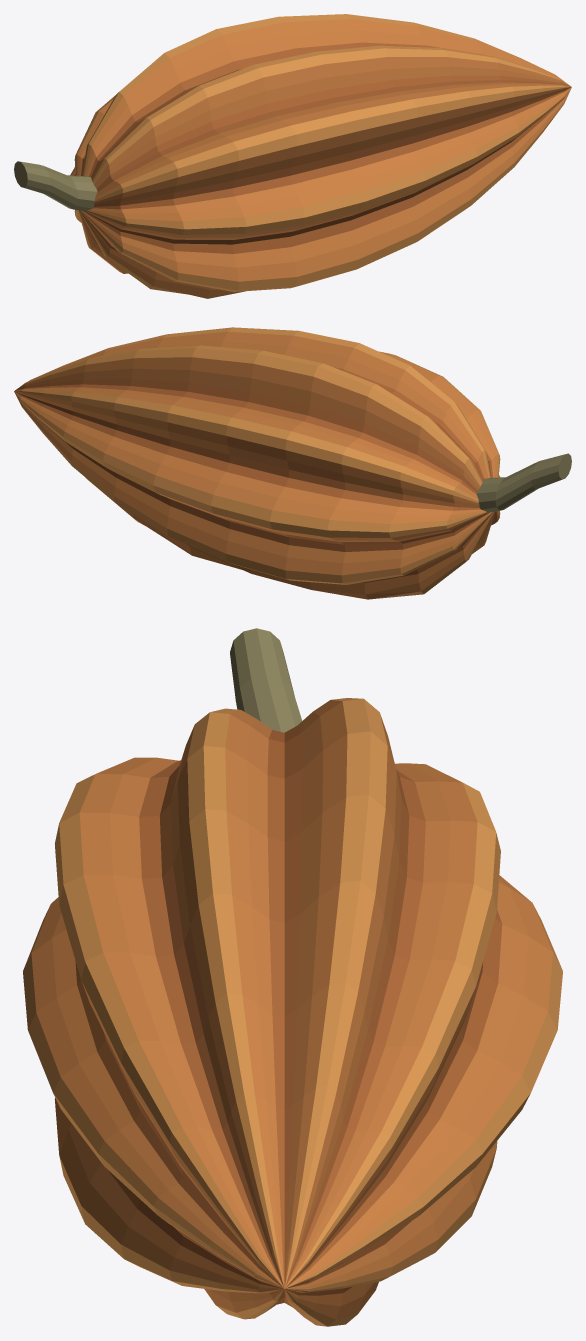
3 renders of one model, top to bottom at view 1: azimuth 30°, elevation 25°; view 2: azimuth 150°, elevation 25°; view 3: azimuth 270°, elevation 25°, orthographic. The views are drawn at different scales.
Visible parts, largest first — view 1: WholeClosedAxiallyRibbedCacaoBody, WholeShortBentWoodyStalk; view 2: WholeClosedAxiallyRibbedCacaoBody, WholeShortBentWoodyStalk; view 3: WholeClosedAxiallyRibbedCacaoBody, WholeShortBentWoodyStalk.
Part boxes in pixels (x1,y1,x2,y2): WholeClosedAxiallyRibbedCacaoBody: (70, 14, 571, 298); WholeShortBentWoodyStalk: (14, 161, 97, 211); WholeClosedAxiallyRibbedCacaoBody: (14, 327, 500, 599); WholeShortBentWoodyStalk: (476, 453, 571, 512); WholeClosedAxiallyRibbedCacaoBody: (23, 698, 562, 1326); WholeShortBentWoodyStalk: (230, 628, 302, 732).
Size of the model in its own units: 0.271 by 0.1041 by 0.1165.
